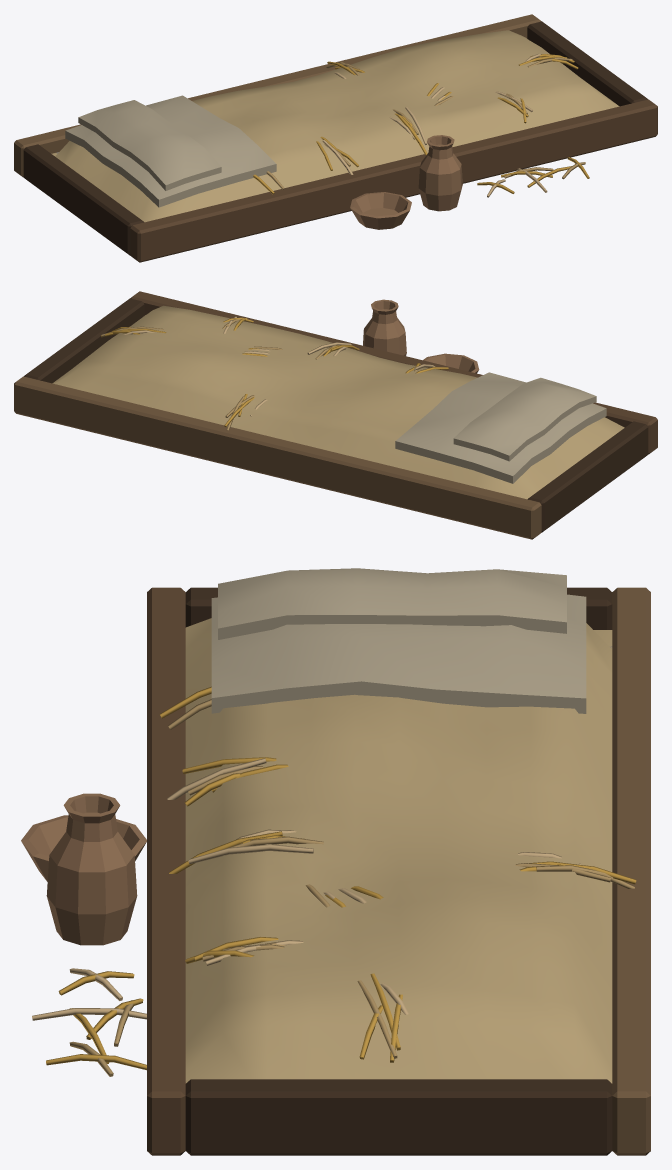
Rendered from SM_LPD_Prison_CellFurnitureStrawPallet_01.fbx.
The picture shows the model from 3 angles, top to bottom: view 1: azimuth 30°, elevation 25°; view 2: azimuth 150°, elevation 25°; view 3: azimuth 270°, elevation 25°; orthographic projection. The views are drawn at different scales.
Visible parts, largest first — view 1: SM_LPD_Prison_CellFurnitureStrawPallet_01; view 2: SM_LPD_Prison_CellFurnitureStrawPallet_01; view 3: SM_LPD_Prison_CellFurnitureStrawPallet_01.
Boxes of the visible parts, x1,y1,x2,y2 form: SM_LPD_Prison_CellFurnitureStrawPallet_01: (14, 14, 657, 262); SM_LPD_Prison_CellFurnitureStrawPallet_01: (14, 291, 657, 539); SM_LPD_Prison_CellFurnitureStrawPallet_01: (21, 568, 650, 1155).
Bounding box in the file's own units: 1.86 × 0.2464 × 0.975.
